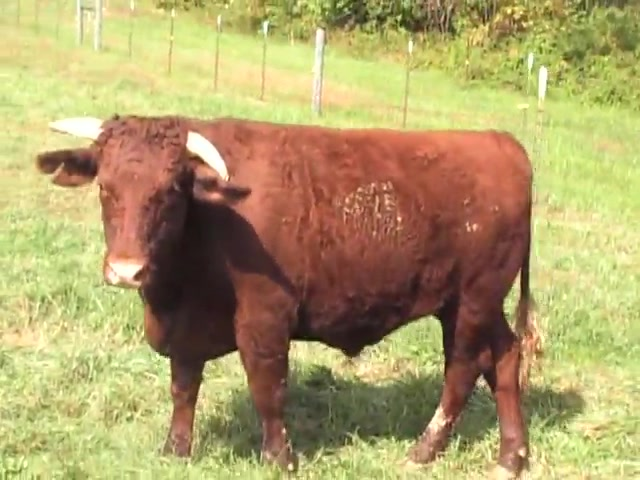cow: (37, 110, 537, 480)
